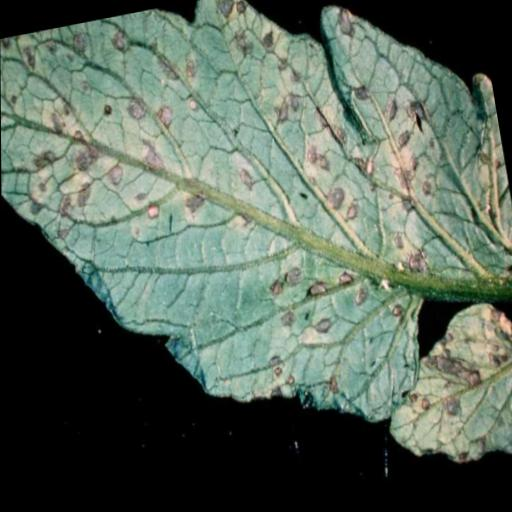Septoria: (0, 0, 512, 493), (371, 296, 512, 482)
